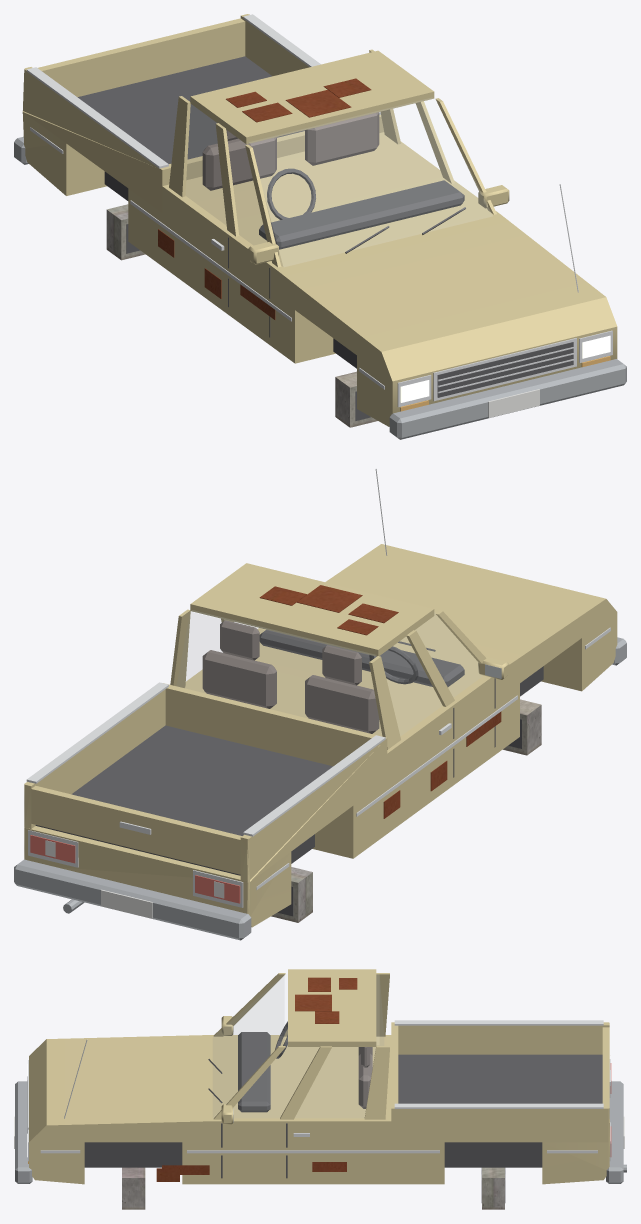
File: junk_pickup_y.glb
3 views of the same model, one above another, from view 1: azimuth 30°, elevation 25°; view 2: azimuth 150°, elevation 25°; view 3: azimuth 270°, elevation 25° (orthographic). The views are drawn at different scales.
Visible parts, largest first — view 1: junk_pickup_y_car_y, junk_pickup_y_glass, junk_pickup_y_dark, junk_pickup_y_chrome, junk_pickup_y_steel, junk_pickup_y_vinyl, junk_pickup_y_rust, junk_pickup_y_block, junk_pickup_y_lamp_glass, junk_pickup_y_paint_w, junk_pickup_y_rubber; view 2: junk_pickup_y_car_y, junk_pickup_y_glass, junk_pickup_y_dark, junk_pickup_y_vinyl, junk_pickup_y_steel, junk_pickup_y_chrome, junk_pickup_y_rust, junk_pickup_y_block, junk_pickup_y_neon_r, junk_pickup_y_paint_w, junk_pickup_y_rubber; view 3: junk_pickup_y_car_y, junk_pickup_y_dark, junk_pickup_y_glass, junk_pickup_y_rubber, junk_pickup_y_chrome, junk_pickup_y_steel, junk_pickup_y_rust, junk_pickup_y_block, junk_pickup_y_vinyl.
Part boxes in pixels (box(x1,y1,x2,y2)): junk_pickup_y_car_y: box(22, 14, 617, 426); junk_pickup_y_glass: box(186, 98, 491, 266); junk_pickup_y_dark: box(77, 56, 573, 420); junk_pickup_y_chrome: box(26, 14, 612, 407); junk_pickup_y_steel: box(14, 136, 626, 439); junk_pickup_y_vinyl: box(202, 112, 379, 190); junk_pickup_y_rust: box(158, 78, 371, 319); junk_pickup_y_block: box(106, 204, 377, 427); junk_pickup_y_lamp_glass: box(400, 335, 610, 402); junk_pickup_y_paint_w: box(488, 389, 539, 417); junk_pickup_y_rubber: box(104, 171, 356, 368); junk_pickup_y_car_y: box(24, 544, 617, 927); junk_pickup_y_glass: box(177, 610, 481, 735); junk_pickup_y_dark: box(35, 629, 521, 916); junk_pickup_y_vinyl: box(202, 620, 379, 733); junk_pickup_y_steel: box(14, 637, 626, 940); junk_pickup_y_chrome: box(26, 468, 610, 907); junk_pickup_y_rust: box(259, 585, 501, 818); junk_pickup_y_block: box(271, 699, 541, 922); junk_pickup_y_neon_r: box(30, 835, 240, 903); junk_pickup_y_paint_w: box(45, 840, 224, 918); junk_pickup_y_rubber: box(291, 666, 543, 863); junk_pickup_y_car_y: box(29, 969, 609, 1184); junk_pickup_y_dark: box(27, 1021, 602, 1202); junk_pickup_y_glass: box(213, 975, 383, 1117); junk_pickup_y_rubber: box(84, 1142, 542, 1167); junk_pickup_y_chrome: box(27, 1020, 610, 1161); junk_pickup_y_steel: box(15, 1081, 626, 1183); junk_pickup_y_rust: box(156, 977, 357, 1181); junk_pickup_y_block: box(122, 1167, 504, 1209); junk_pickup_y_vinyl: box(358, 1047, 372, 1108).
Size of the model in its own units: 2 by 1.6 by 5.28.
14 materials, 2 textured.
